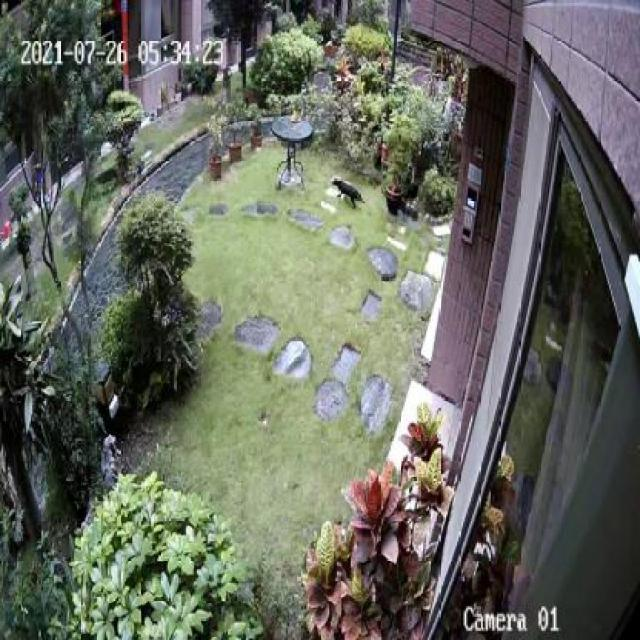animals: (327, 169, 375, 209)
